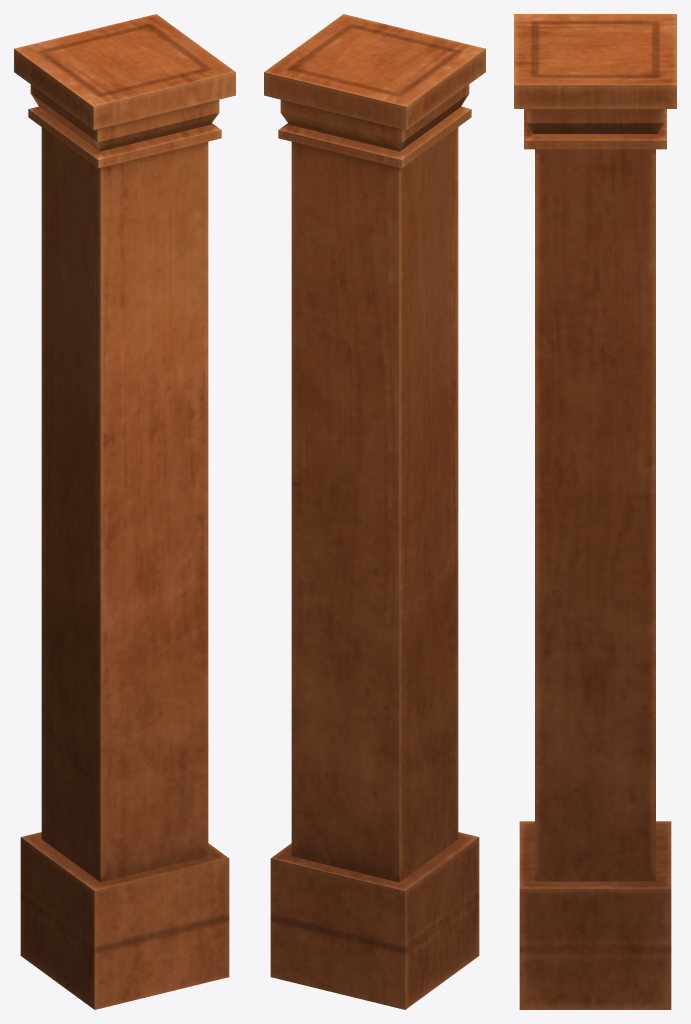
Rendered from Post.fbx.
3 views of the same model, side by side, from view 1: azimuth 30°, elevation 25°; view 2: azimuth 150°, elevation 25°; view 3: azimuth 270°, elevation 25° (orthographic). The views are drawn at different scales.
Parts seen in each view (by area): view 1: Fence_Post1; view 2: Fence_Post1; view 3: Fence_Post1.
Part boxes in pixels (<box>): Fence_Post1: <box>14,14,235,1009</box>; Fence_Post1: <box>264,14,485,1009</box>; Fence_Post1: <box>514,14,676,1009</box>.
Size of the model in its own units: 19.68 by 120 by 19.04.
